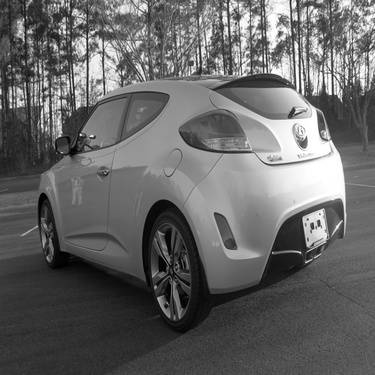car: (32, 66, 353, 337)
